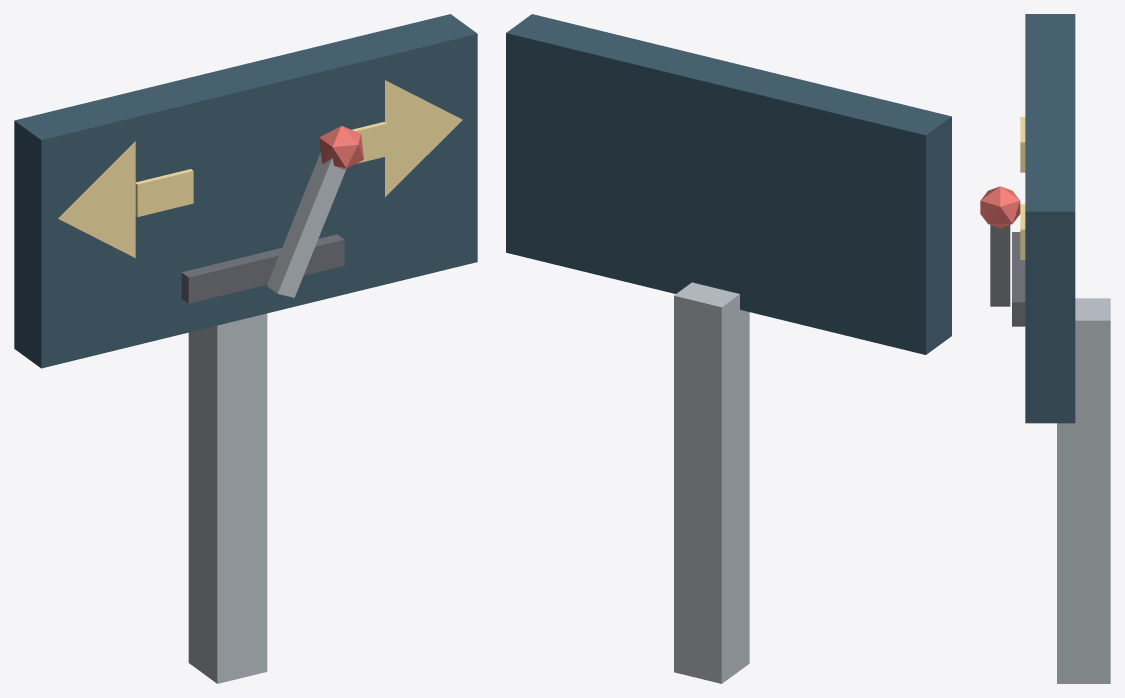
Rendered from ReefSwitch.fbx.
3 renders of one model, left to right at view 1: azimuth 30°, elevation 25°; view 2: azimuth 150°, elevation 25°; view 3: azimuth 270°, elevation 25°, orthographic. The views are drawn at different scales.
Visible parts, largest first — view 1: ReefSwitch; view 2: ReefSwitch; view 3: ReefSwitch.
Part boxes in pixels (x1,y1,x2,y2): ReefSwitch: (14,14,477,683); ReefSwitch: (506,14,951,683); ReefSwitch: (980,14,1110,683).
Size of the model in its own units: 1.4 by 1.85 by 0.3895.
